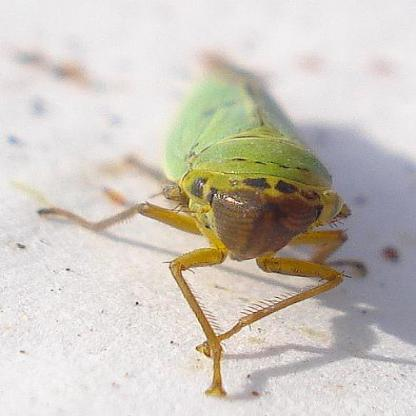Green-Leafhopper: (65, 51, 356, 401)
